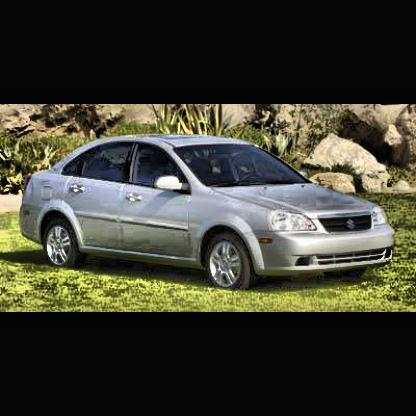Suzuki Aerio Sedan 2007: (19, 133, 398, 293)
